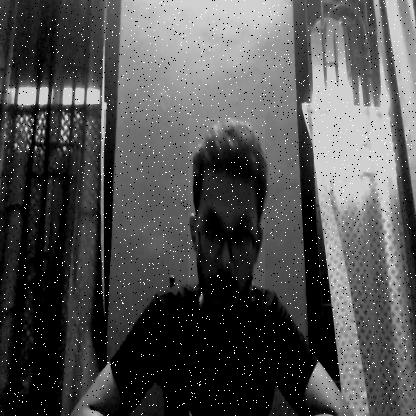Normal: (188, 118, 265, 314)
